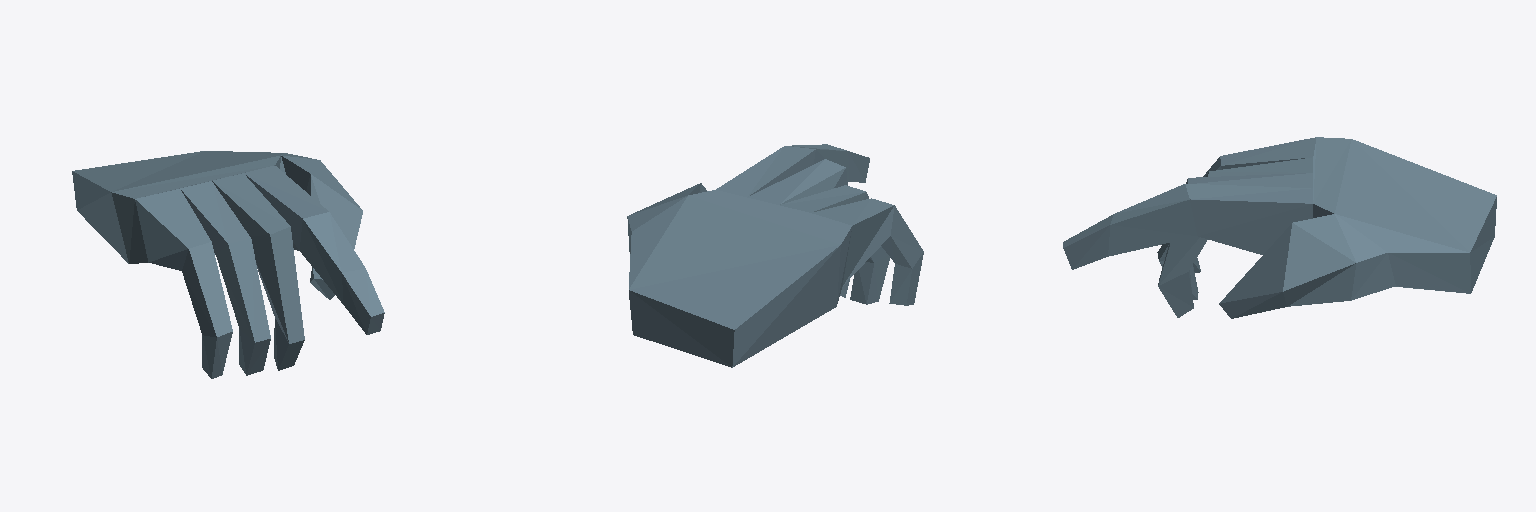
3 renders of one model, left to right at view 1: azimuth 30°, elevation 25°; view 2: azimuth 150°, elevation 25°; view 3: azimuth 270°, elevation 25°, orthographic.
Parts seen in each view (by area): view 1: group[number redacted]; view 2: group[number redacted]; view 3: group[number redacted].
Part boxes in pixels (bbox=[...]): group[number redacted]: bbox=[72, 151, 384, 378]; group[number redacted]: bbox=[627, 144, 923, 367]; group[number redacted]: bbox=[1063, 137, 1496, 318].
Size of the model in its own units: 0.1627 by 0.103 by 0.2813.